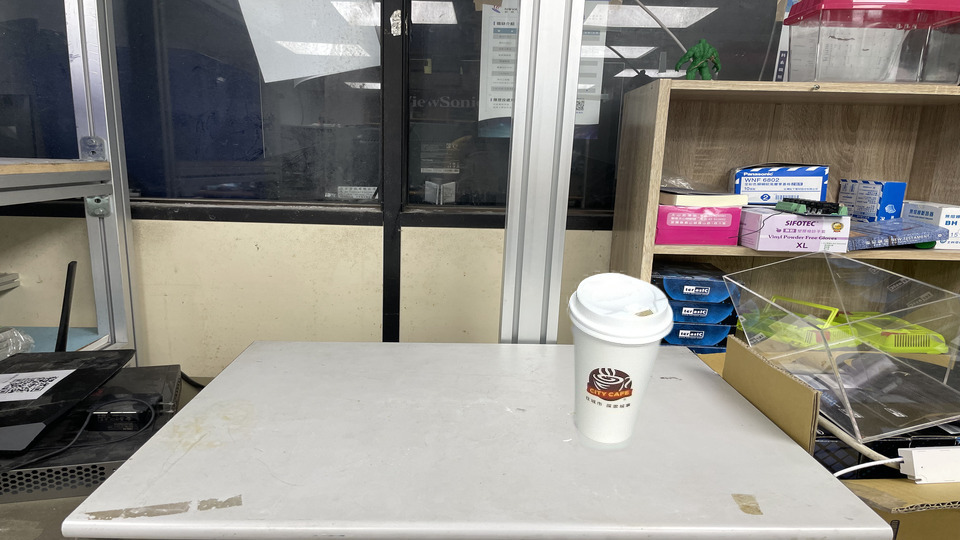columnar: (567, 272, 676, 444)
